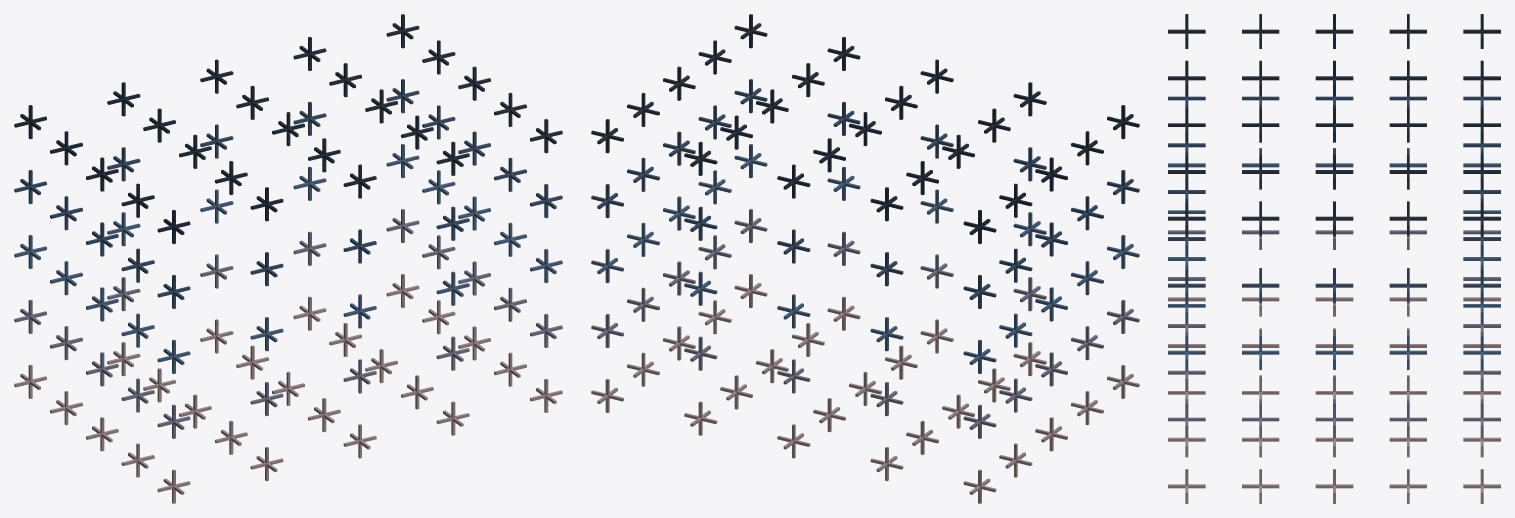
File: cross.obj
3 views of the same model, side by side, from view 1: azimuth 30°, elevation 25°; view 2: azimuth 150°, elevation 25°; view 3: azimuth 270°, elevation 25° (orthographic). The views are drawn at different scales.
Visible parts, largest first — view 1: 平面_平面.001; view 2: 平面_平面.001; view 3: 平面_平面.001.
Boxes of the visible parts, x1=… form: 平面_平面.001: x1=14, y1=14, x2=562, y2=503; 平面_平面.001: x1=591, y1=14, x2=1139, y2=503; 平面_平面.001: x1=1168, y1=14, x2=1500, y2=503.
Size of the model in its own units: 1.63 by 1.13 by 1.13.
Materials: 1 (1 with a texture image).
